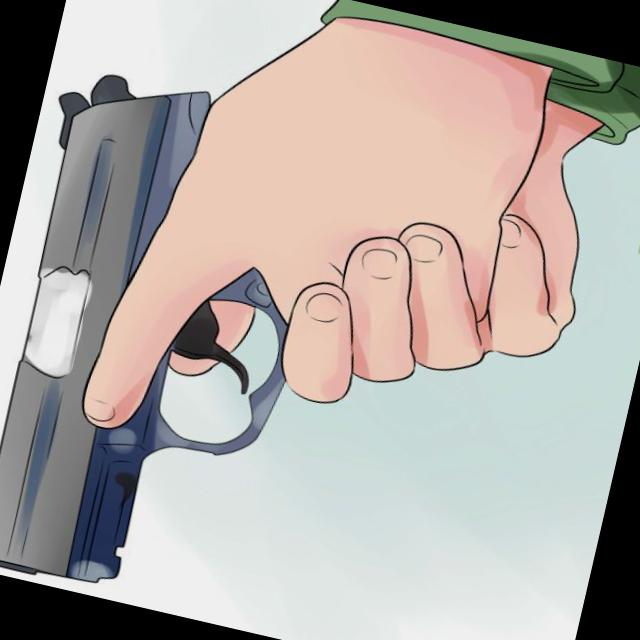handgun: (0, 32, 354, 625)
